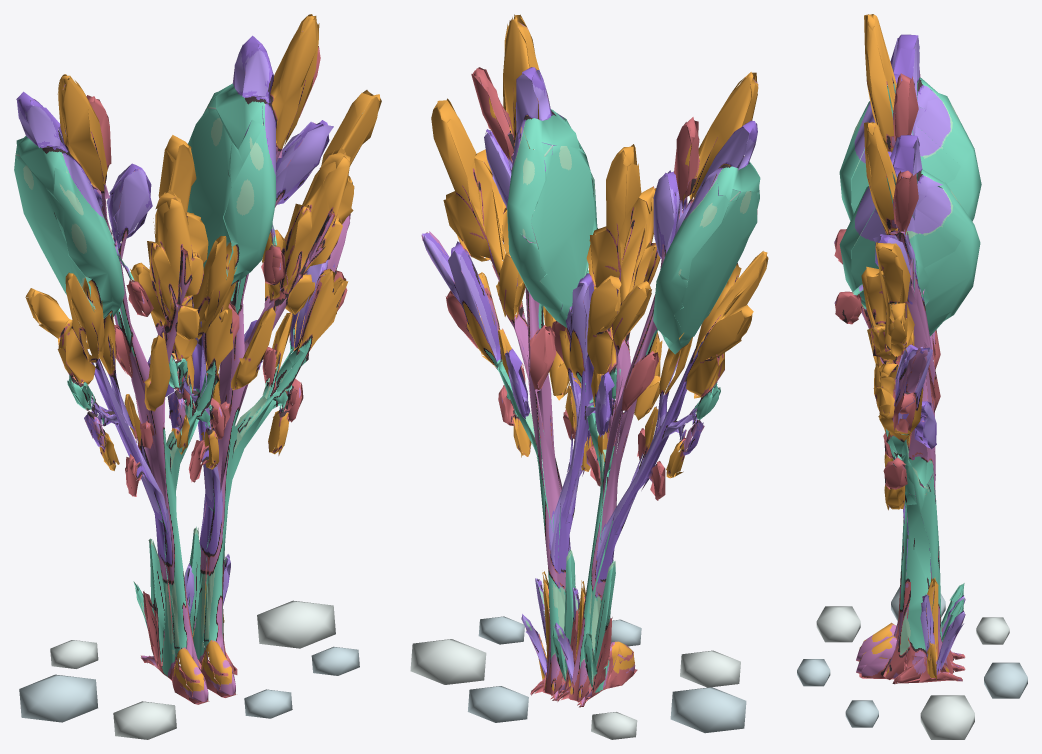
Rendered from lagoon_tree_twinheart.glb.
The picture shows the model from 3 angles, left to right: view 1: azimuth 30°, elevation 25°; view 2: azimuth 150°, elevation 25°; view 3: azimuth 270°, elevation 25°; orthographic projection. The views are drawn at different scales.
Visible parts, largest first — view 1: lagoon_tree_twinheart.001; view 2: lagoon_tree_twinheart.001; view 3: lagoon_tree_twinheart.001.
Boxes of the visible parts, x1=… form: lagoon_tree_twinheart.001: x1=14, y1=14, x2=381, y2=739; lagoon_tree_twinheart.001: x1=410, y1=14, x2=768, y2=739; lagoon_tree_twinheart.001: x1=797, y1=14, x2=1027, y2=739.
Bounding box in the file's own units: 4.02 × 7.48 × 2.59.
Materials: 3 (1 with a texture image).
